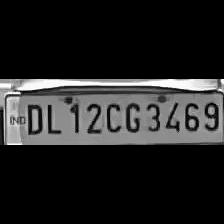1: (63, 99, 81, 136)
2: (82, 99, 102, 135)
3: (142, 98, 162, 134)
4: (162, 97, 182, 133)
6: (180, 97, 200, 132)
9: (200, 97, 220, 132)
C: (102, 98, 122, 134)
D: (22, 100, 46, 136)
G: (122, 98, 142, 134)
L: (43, 99, 63, 136)
